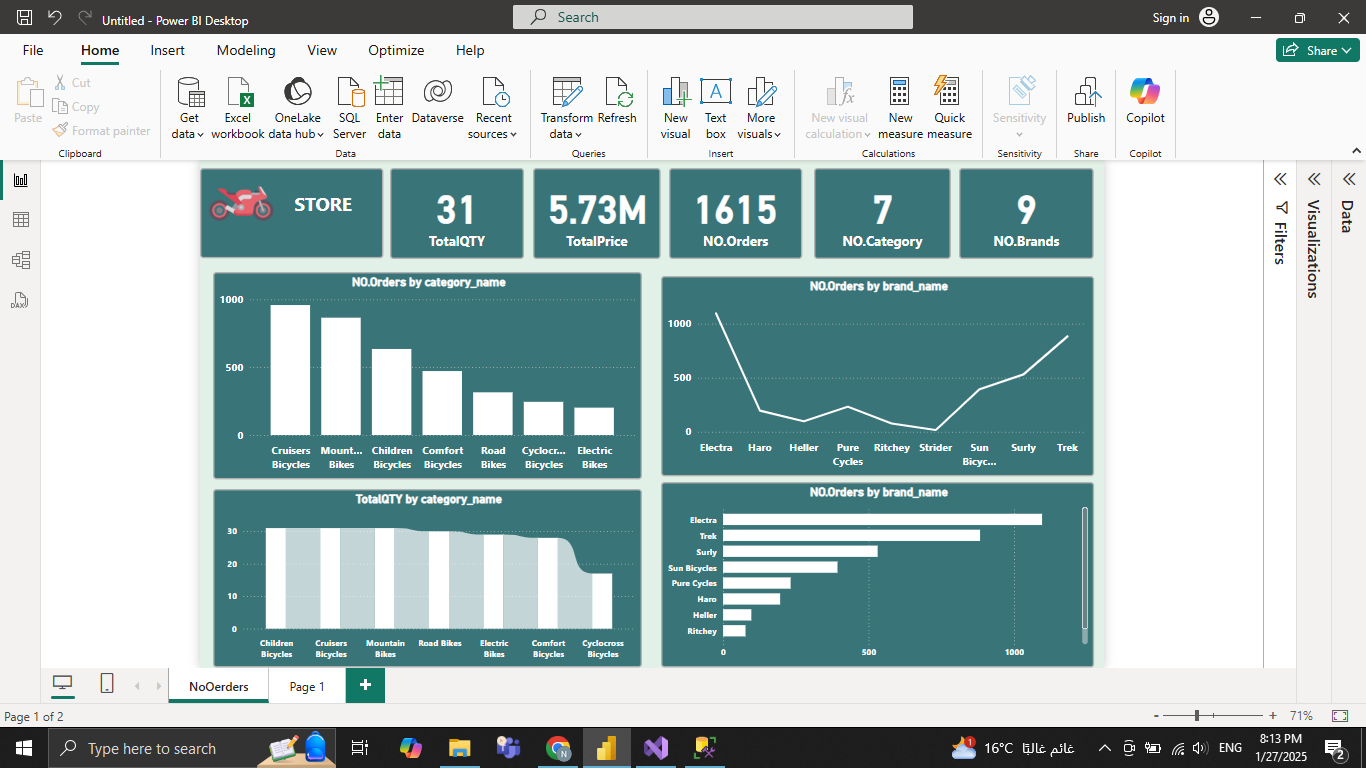

Layout of this report page (visuals, bound fields, positions):
{"tool":"powerbi","page":{"name":"NoOerders","canvas":[1280,720],"ordinal":0},"visuals":[{"type":"card","fields":{"Values":["Mmesures.TotalQTY"]},"box":[269.3,11.3,189.9,129],"z":0},{"type":"card","fields":{"Values":["Mmesures.NO.Orders"]},"box":[664.7,11.3,188.5,129],"z":1000},{"type":"card","fields":{"Values":["Mmesures.NO.Category"]},"box":[870.2,11.3,194.2,129],"z":2000},{"type":"card","fields":{"Values":["Mmesures.NO.Brands"]},"box":[1075.7,11.3,191.3,129],"z":3000},{"type":"card","fields":{"Values":["Mmesures.TotalPrice"]},"box":[472,11.3,181.4,129],"z":4000},{"type":"clusteredColumnChart","fields":{"Y":["Mmesures.NO.Orders"],"Category":["categories.category_name"]},"box":[17.9,158.3,607.9,294.2],"z":5000},{"type":"barChart","fields":{"Category":["brands.brand_name"],"Y":["Mmesures.NO.Orders"]},"box":[652.7,457,613.9,262.9],"z":6000},{"type":"ribbonChart","fields":{"Category":["categories.category_name"],"Y":["Mmesures.TotalQTY"]},"box":[18,467,608,253],"z":7000},{"type":"shape","box":[18.4,11.3,240.9,129],"z":8000},{"type":"image","box":[22.7,11.3,116.2,100.6],"z":9000},{"type":"textbox","box":[127.6,24.1,116.2,75.1],"z":10000},{"type":"lineChart","fields":{"Category":["brands.brand_name","order_items.orders.order_date.Variation.Date Hierarchy.Year","order_items.orders.order_date.Variation.Date Hierarchy.Quarter"],"Y":["Mmesures.NO.Orders"]},"box":[652.7,164.3,613.9,283.8],"z":11000}]}

Visuals, with their boxes on the page's 1280x720 design canvas (x1, y1, x2, y2). These are canvas units, not pixel positions in the 1366x768 screenshot, which may show the page scaled, cropped or inside an application window:
card - Mmesures.TotalQTY: BBox(269, 11, 459, 140)
card - Mmesures.NO.Orders: BBox(665, 11, 853, 140)
card - Mmesures.NO.Category: BBox(870, 11, 1064, 140)
card - Mmesures.NO.Brands: BBox(1076, 11, 1267, 140)
card - Mmesures.TotalPrice: BBox(472, 11, 653, 140)
clusteredColumnChart - Mmesures.NO.Orders x categories.category_name: BBox(18, 158, 626, 452)
barChart - brands.brand_name x Mmesures.NO.Orders: BBox(653, 457, 1267, 720)
ribbonChart - categories.category_name x Mmesures.TotalQTY: BBox(18, 467, 626, 720)
shape: BBox(18, 11, 259, 140)
image: BBox(23, 11, 139, 112)
textbox: BBox(128, 24, 244, 99)
lineChart - brands.brand_name x order_items.orders.order_date.Variation.Date Hierarchy.Year: BBox(653, 164, 1267, 448)
